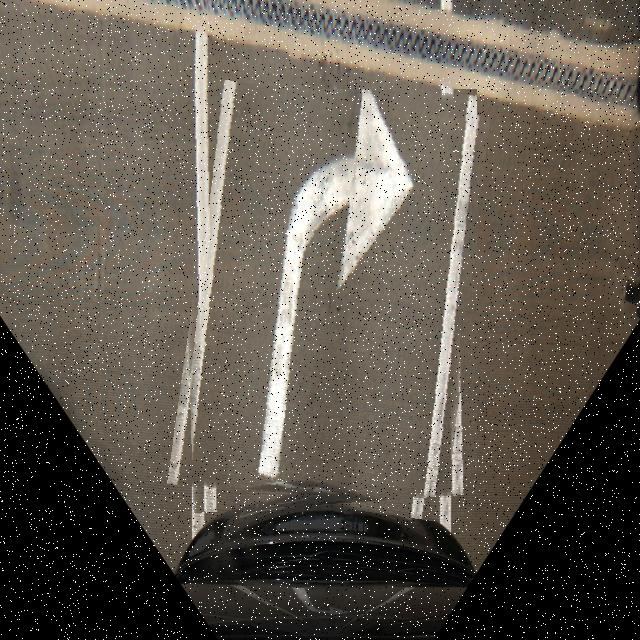right: (181, 89, 477, 513)
